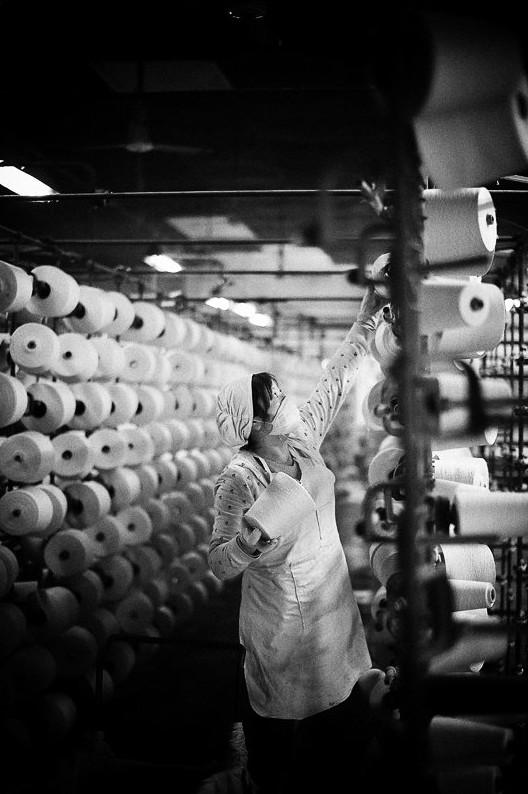OK: (254, 381, 303, 438)
